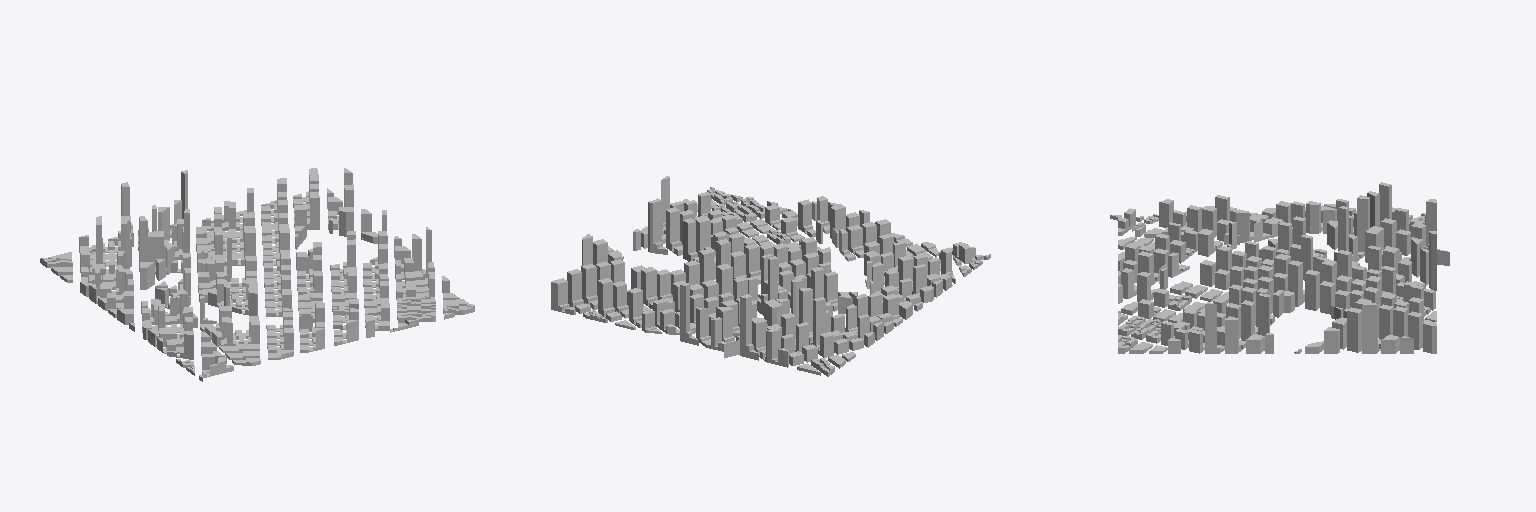
The model's file is buildings_00098.obj.
3 views of the same model, side by side, from view 1: azimuth 30°, elevation 25°; view 2: azimuth 150°, elevation 25°; view 3: azimuth 270°, elevation 25° (orthographic).
Bounding box in the file's own units: 1500 × 314 × 1598.